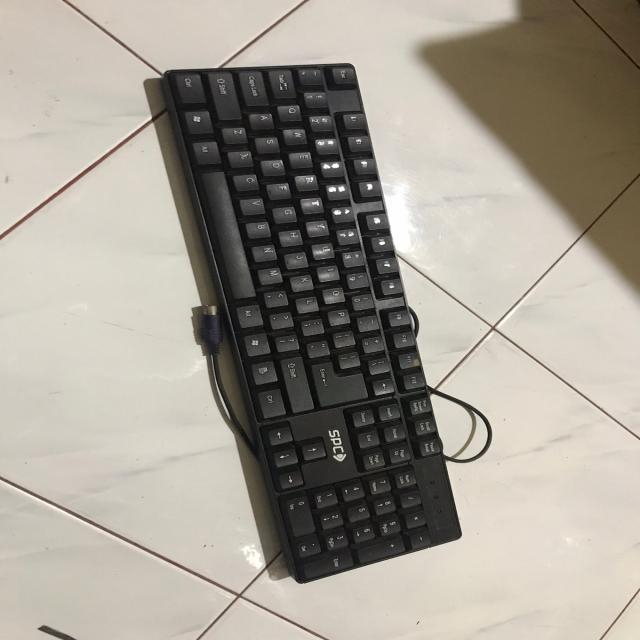-mouse-: (160, 64, 466, 583)
